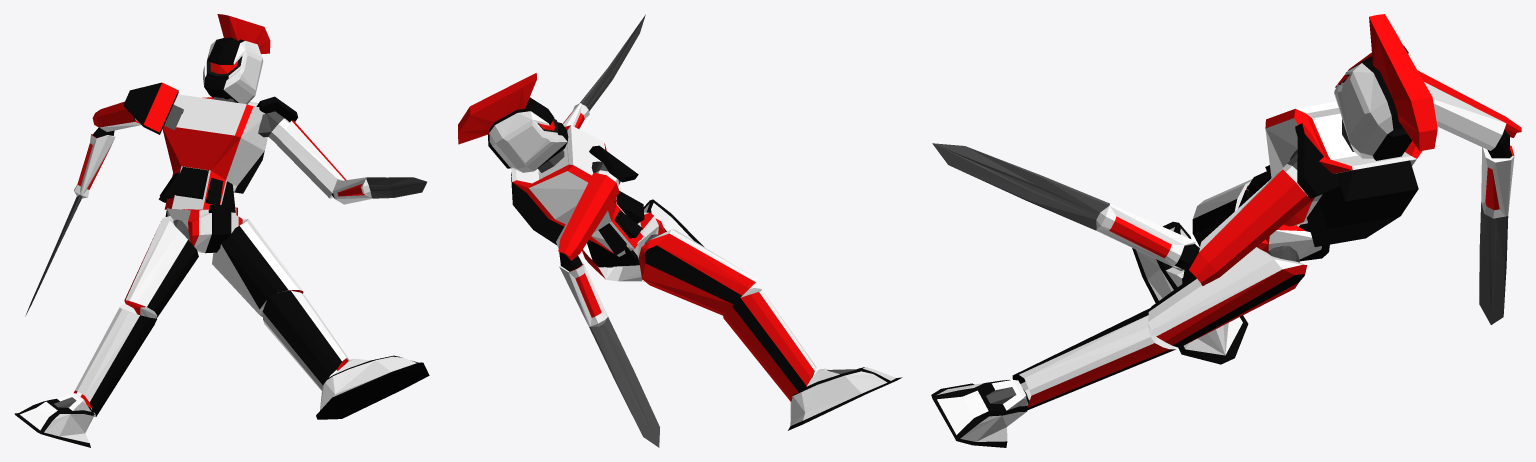
File: robots_000005.obj
The picture shows the model from 3 angles, left to right: view 1: azimuth 30°, elevation 25°; view 2: azimuth 150°, elevation 25°; view 3: azimuth 270°, elevation 25°; orthographic projection. The views are drawn at different scales.
Parts seen in each view (by area): view 1: Chest_plate_Cube.004, R_Shin.002_Cube.029, R_Foot.002_Cube.035, Head_gladiator_Cube.024, R_Thigh.002_Cube.027, R_Forearm.002_Cube.033, R_Thigh_Cube.005, R_Shin_Cube.007, R_Forearm.001_Cube.028, R_Foot_Cube, Pelvis_Cube.006, R_Arm.002_Cube.032 (+1 smaller); view 2: Chest_plate_Cube.004, R_Forearm.001_Cube.028, Head_gladiator_Cube.024, R_Thigh_Cube.005, R_Shin_Cube.007, R_Foot_Cube, R_Forearm.002_Cube.033, Pelvis_Cube.006, R_Arm.002_Cube.032, R_Thigh.002_Cube.027, R_Foot.002_Cube.035; view 3: R_Forearm.002_Cube.033, Chest_plate_Cube.004, Head_gladiator_Cube.024, R_Forearm.001_Cube.028, R_Thigh.002_Cube.027, R_Shin.002_Cube.029, R_Foot.002_Cube.035, R_Foot_Cube, R_Arm.003_Cube.034, R_Thigh_Cube.005, Pelvis_Cube.006.
Part boxes in pixels (box(x1,y1,x2,y2)): Chest_plate_Cube.004: box(158, 94, 267, 212); R_Shin.002_Cube.029: box(262, 290, 349, 390); R_Foot.002_Cube.035: box(316, 355, 429, 419); Head_gladiator_Cube.024: box(203, 14, 270, 104); R_Thigh.002_Cube.027: box(212, 219, 303, 316); R_Forearm.002_Cube.033: box(275, 120, 426, 204); R_Thigh_Cube.005: box(124, 216, 198, 318); R_Shin_Cube.007: box(74, 304, 156, 416); R_Forearm.001_Cube.028: box(25, 101, 140, 316); R_Foot_Cube: box(14, 393, 94, 447); Pelvis_Cube.006: box(165, 204, 242, 253); R_Arm.002_Cube.032: box(124, 82, 183, 134); Chest_plate_Cube.004: box(511, 125, 644, 256); R_Forearm.001_Cube.028: box(556, 172, 659, 447); Head_gladiator_Cube.024: box(458, 73, 568, 172); R_Thigh_Cube.005: box(638, 229, 757, 315); R_Shin_Cube.007: box(723, 288, 816, 401); R_Foot_Cube: box(788, 367, 902, 430); R_Forearm.002_Cube.033: box(563, 14, 645, 128); Pelvis_Cube.006: box(587, 212, 665, 267); R_Arm.002_Cube.032: box(589, 145, 638, 187); R_Thigh.002_Cube.027: box(582, 243, 642, 281); R_Foot.002_Cube.035: box(643, 199, 703, 246); R_Forearm.002_Cube.033: box(932, 143, 1310, 285); Chest_plate_Cube.004: box(1246, 101, 1422, 246); Head_gladiator_Cube.024: box(1334, 14, 1437, 160); R_Forearm.001_Cube.028: box(1417, 70, 1521, 324); R_Thigh.002_Cube.027: box(1148, 247, 1307, 347); R_Shin.002_Cube.029: box(1012, 308, 1176, 410); R_Foot.002_Cube.035: box(931, 379, 1029, 447); R_Foot_Cube: box(1132, 221, 1248, 364); R_Arm.003_Cube.034: box(1279, 123, 1339, 198); R_Thigh_Cube.005: box(1192, 179, 1252, 246); Pelvis_Cube.006: box(1238, 186, 1329, 261).
Bounding box in the file's own units: 2.79 × 2.58 × 2.86.
